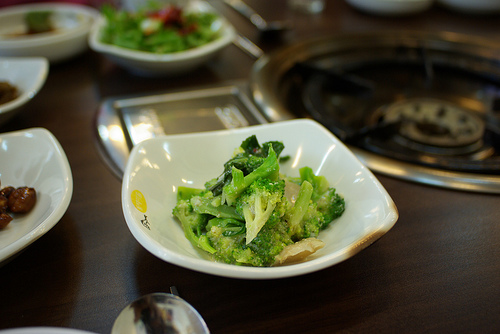broccoli: (238, 176, 287, 245)
